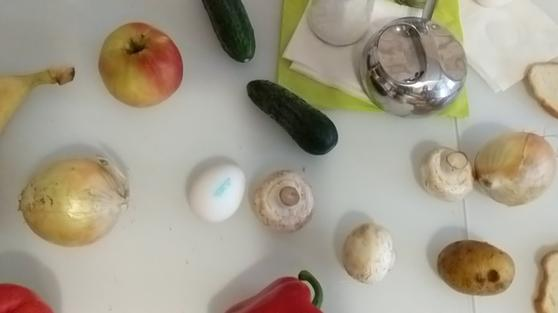champignon: (252, 168, 316, 231), (344, 222, 397, 284), (416, 145, 473, 201)
cucumber: (247, 79, 338, 156), (205, 1, 257, 63)
egg: (189, 161, 246, 222)
onion: (18, 157, 130, 247), (475, 131, 555, 207)
potato: (437, 240, 516, 296)
